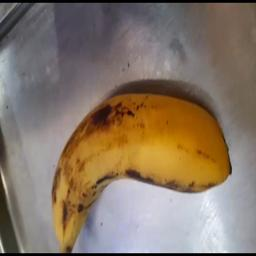Banana Semirotten: (11, 88, 256, 228)
